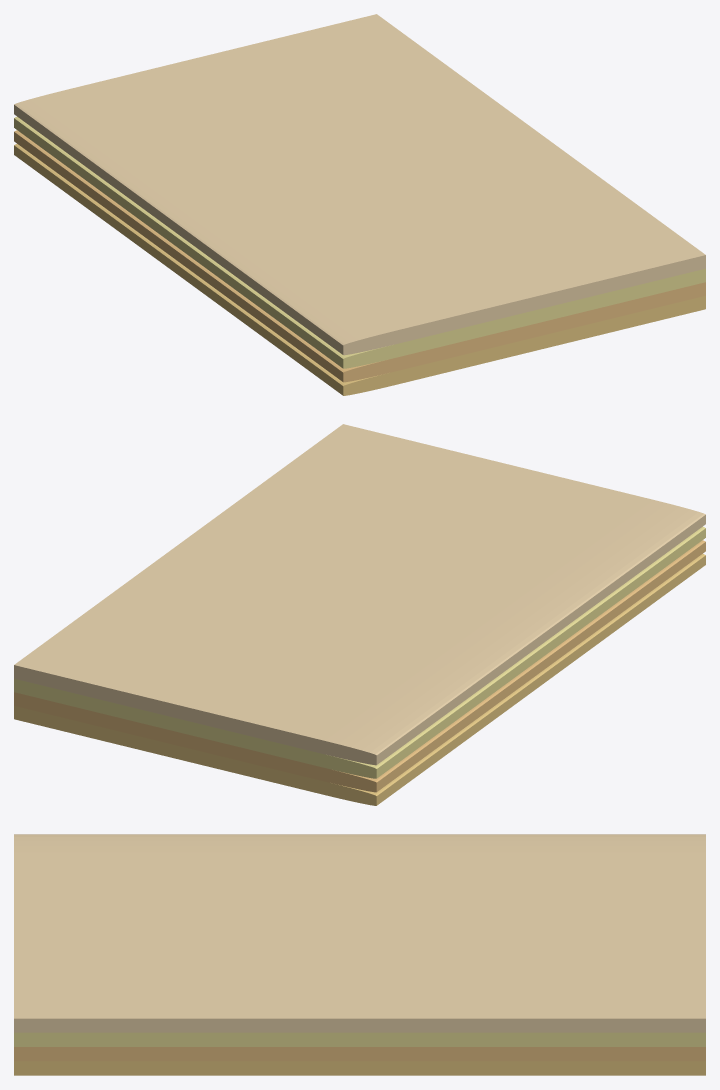
Rendered from Zeitschriften.fbx.
3 views of the same model, one above another, from view 1: azimuth 30°, elevation 25°; view 2: azimuth 150°, elevation 25°; view 3: azimuth 270°, elevation 25° (orthographic). The views are drawn at different scales.
Visible parts, largest first — view 1: Cube.001, Cube.003, Cube, Cube.002; view 2: Cube.001, Cube.003, Cube, Cube.002; view 3: Cube.001, Cube, Cube.002, Cube.003.
Boxes of the visible parts, x1,y1,x2,y2 form: Cube.001: (14, 14, 705, 355); Cube.003: (14, 130, 705, 382); Cube: (14, 116, 705, 368); Cube.002: (14, 144, 705, 395); Cube.001: (14, 424, 705, 765); Cube.003: (14, 540, 705, 792); Cube: (14, 526, 705, 778); Cube.002: (14, 554, 705, 805); Cube.001: (14, 834, 705, 1032); Cube: (14, 1032, 705, 1046); Cube.002: (14, 1061, 705, 1075); Cube.003: (14, 1047, 705, 1061).
Size of the model in its own units: 28 by 4 by 44.
